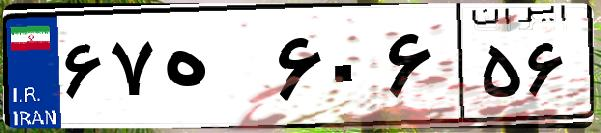0: (330, 28, 385, 110)
5: (475, 38, 525, 113)
6: (270, 28, 330, 110), (385, 28, 445, 110), (57, 26, 110, 100), (525, 38, 570, 115)
7: (110, 28, 158, 98)
ه: (158, 20, 270, 120)
